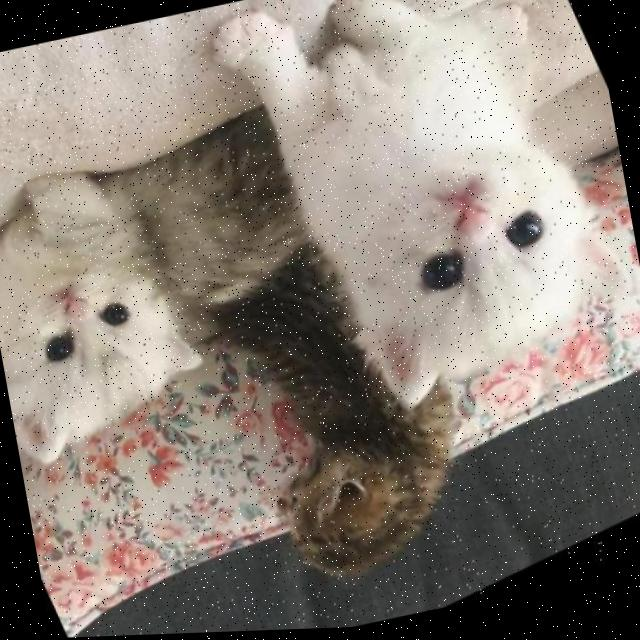Cats: (208, 0, 640, 460), (0, 56, 367, 494), (188, 224, 514, 615)
